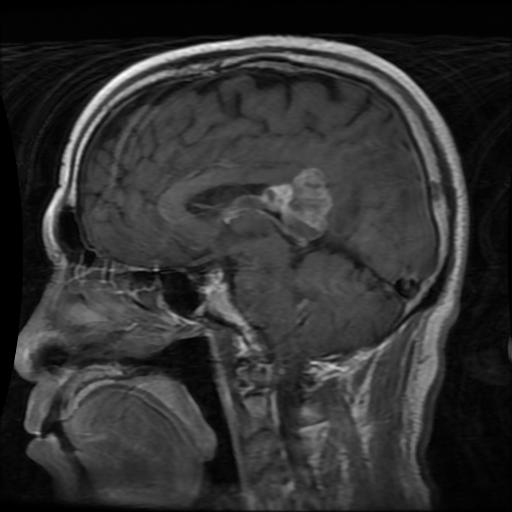Gliomia_tumour: (260, 166, 332, 239)
